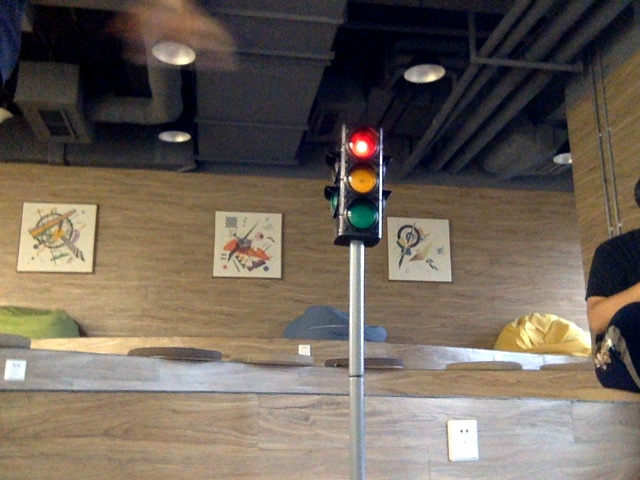red: (341, 130, 383, 234)
